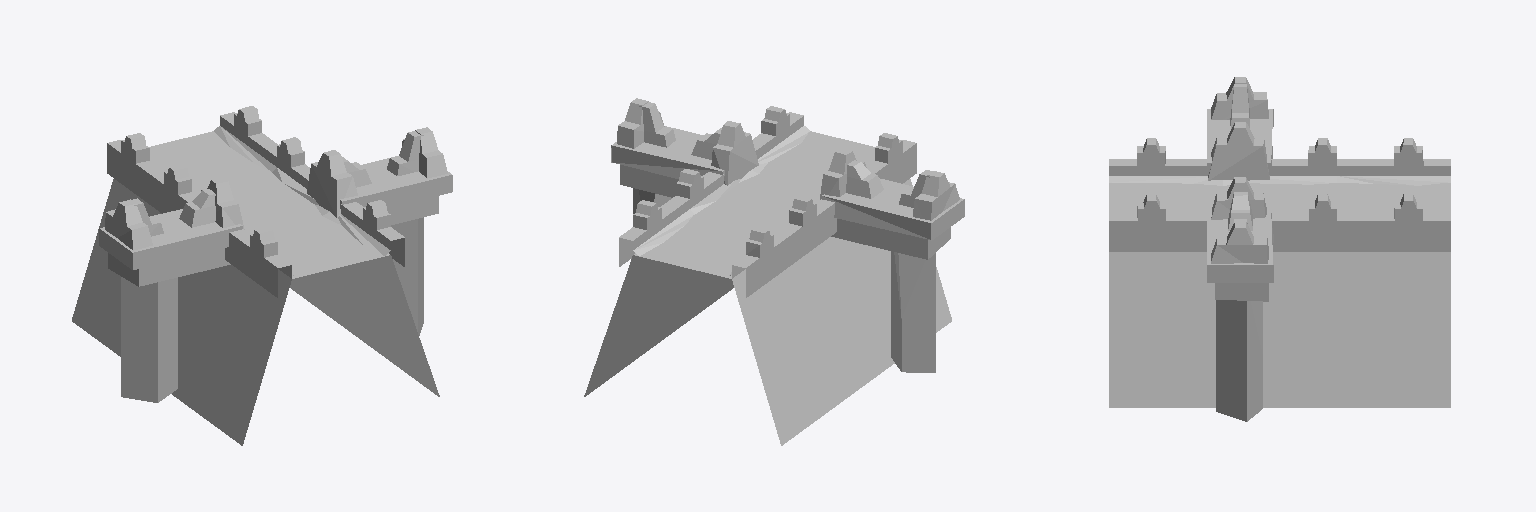
Rendered from templeStraightVert5_prefab.obj.
The picture shows the model from 3 angles: view 1: azimuth 30°, elevation 25°; view 2: azimuth 150°, elevation 25°; view 3: azimuth 270°, elevation 25°; orthographic projection.
Parts seen in each view (by area): view 1: Object91-Pivot; view 2: Object91-Pivot; view 3: Object91-Pivot.
Boxes of the visible parts, x1=… form: Object91-Pivot: x1=72, y1=106, x2=452, y2=445; Object91-Pivot: x1=584, y1=98, x2=964, y2=445; Object91-Pivot: x1=1109, y1=77, x2=1450, y2=421.
Size of the model in its own units: 64.72 by 40.04 by 60.